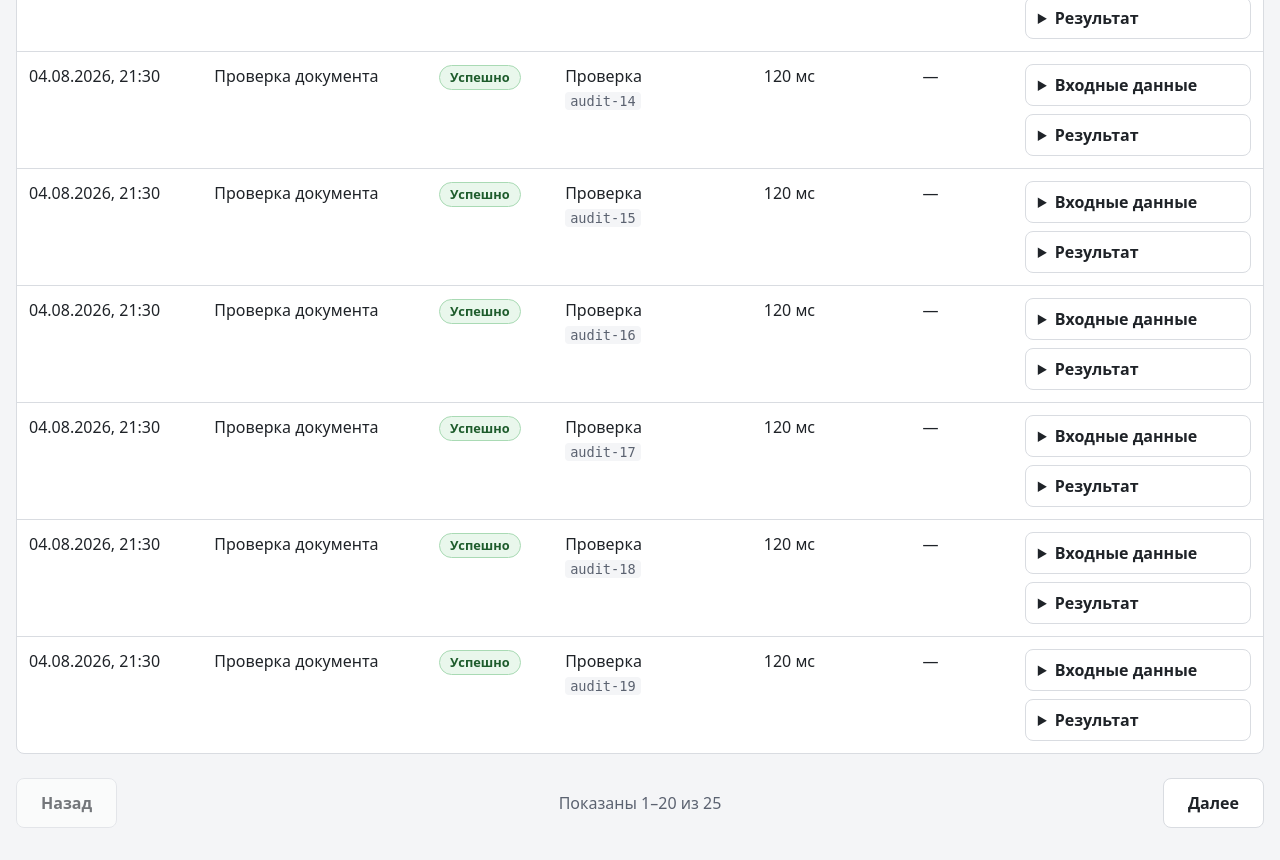
AuditJournalPage › пагинация «Далее»/«Назад» использует точные limit/offset, Next заблокирован на последней странице
(page scrolled)
Expected: the button "Назад" is disabled, [16, 778, 117, 828]
Click the button "Далее". click: (1213, 803)
box: [1163, 778, 1264, 828]
(page scrolled)
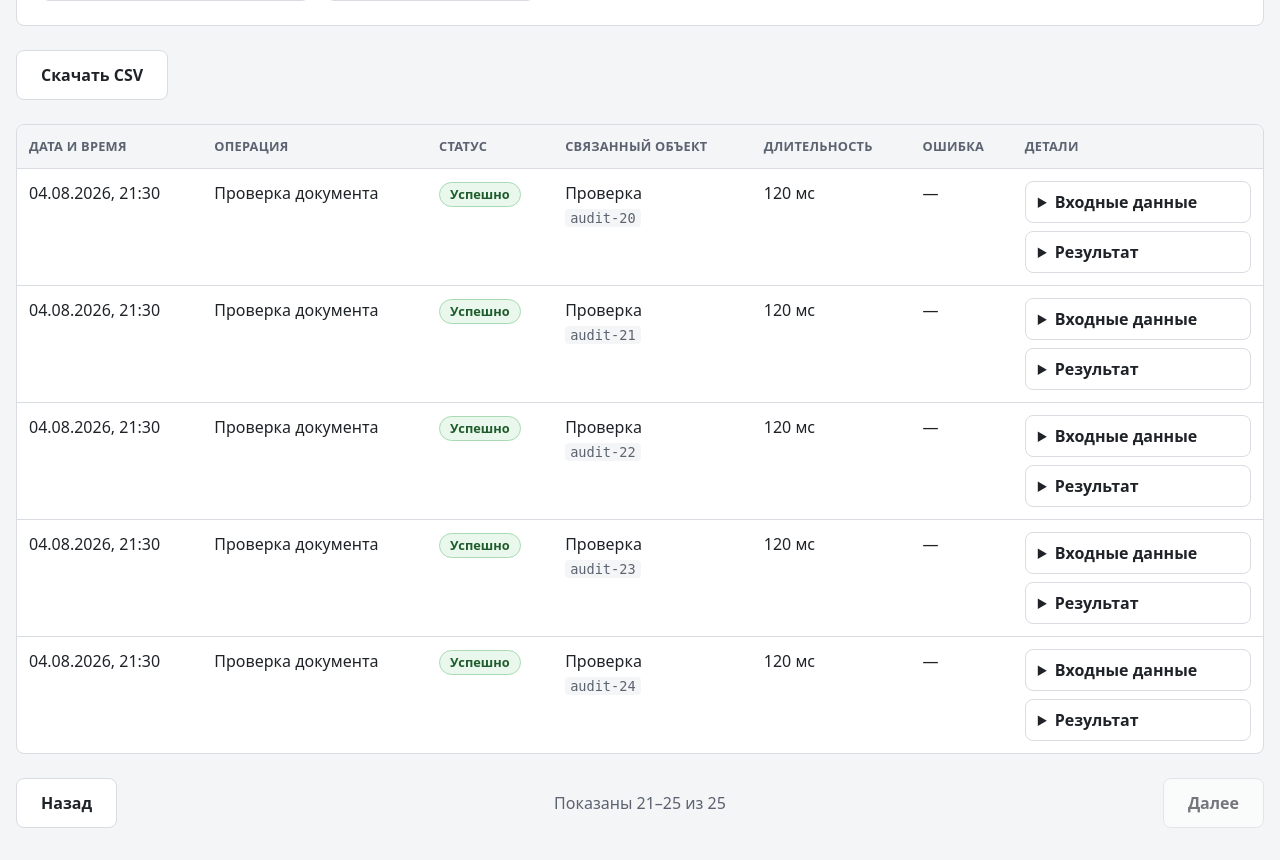
Expected: the text "Показаны 21–25 из 25" is shown, [554, 791, 726, 815]
Expected: the button "Далее" is disabled, [1163, 778, 1264, 828]
Click the button "Назад". click: (67, 803)
box: [16, 778, 117, 828]
(page scrolled)
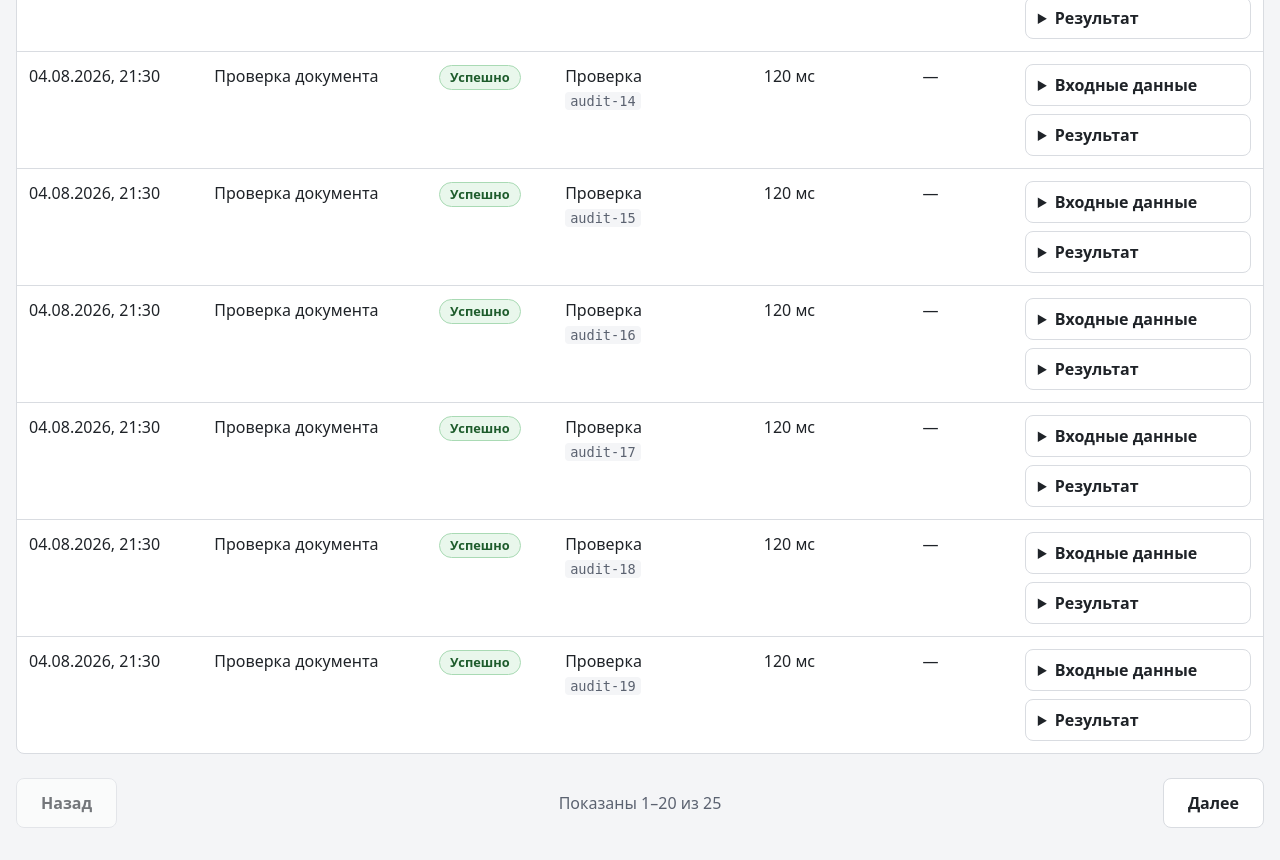
Expected: the text "Показаны 1–20 из 25" is shown, [559, 791, 721, 815]
